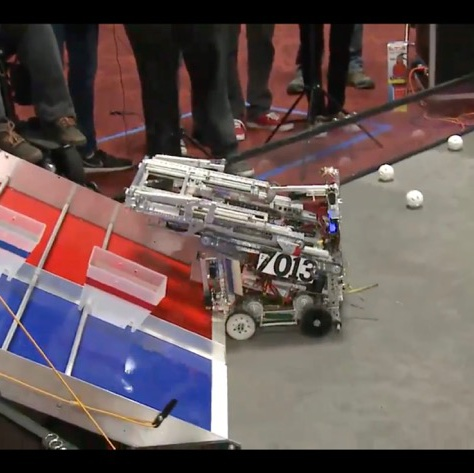robot: (119, 148, 349, 345)
